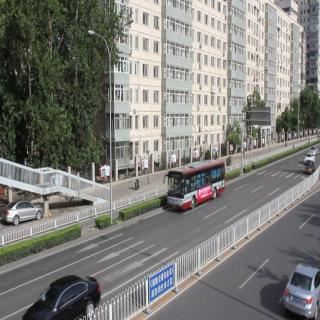Car: (166, 156, 227, 213), (27, 280, 100, 318), (284, 251, 320, 306), (0, 196, 58, 229), (302, 145, 316, 177)
